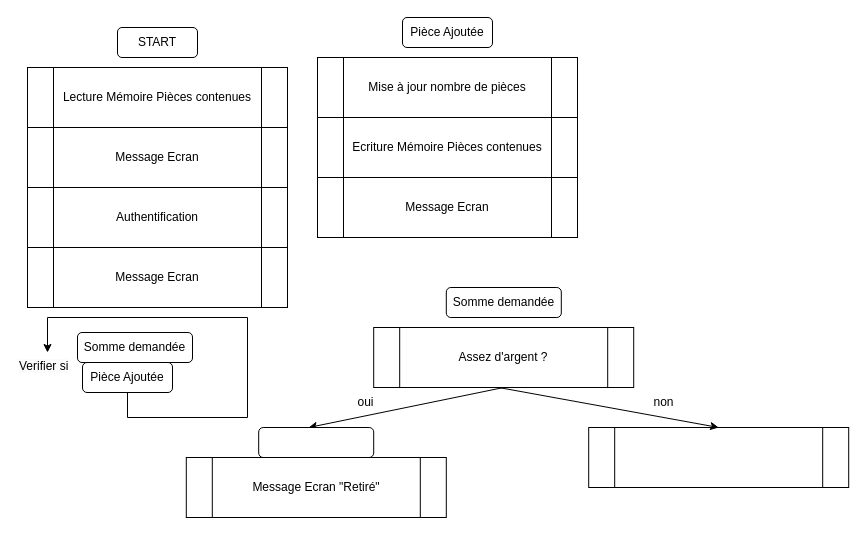
Image size: 866x535. Some labels were removed from this diagram. Each missing label, with the centre of its shape:
Message Ecran "Impossible": the point at 718,457
Sortie moteurs: the point at 316,442
